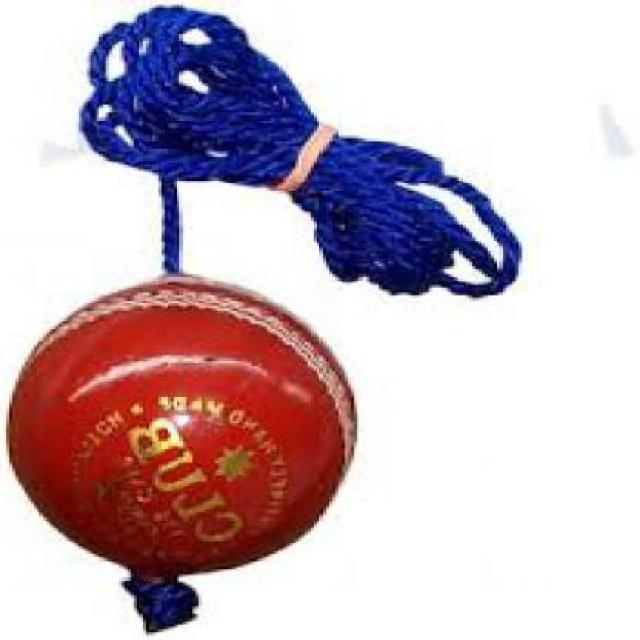ball: (0, 258, 387, 576)
